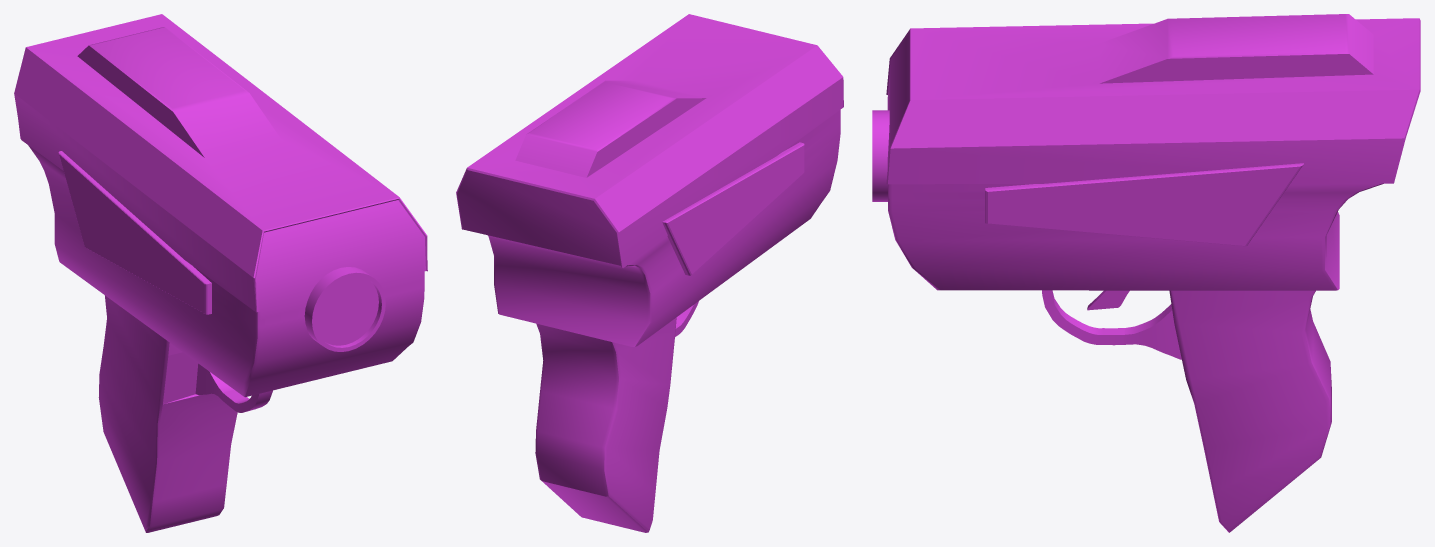
Rendered from Gun1v2.fbx.
3 renders of one model, left to right at view 1: azimuth 30°, elevation 25°; view 2: azimuth 150°, elevation 25°; view 3: azimuth 270°, elevation 25°, orthographic. The views are drawn at different scales.
Parts seen in each view (by area): view 1: Gun; view 2: Gun; view 3: Gun.
Boxes of the visible parts, bbox=[...] form: Gun: bbox=[14, 14, 427, 532]; Gun: bbox=[456, 14, 843, 532]; Gun: bbox=[872, 14, 1420, 532].
Size of the model in its own units: 63.77 by 151 by 156.
